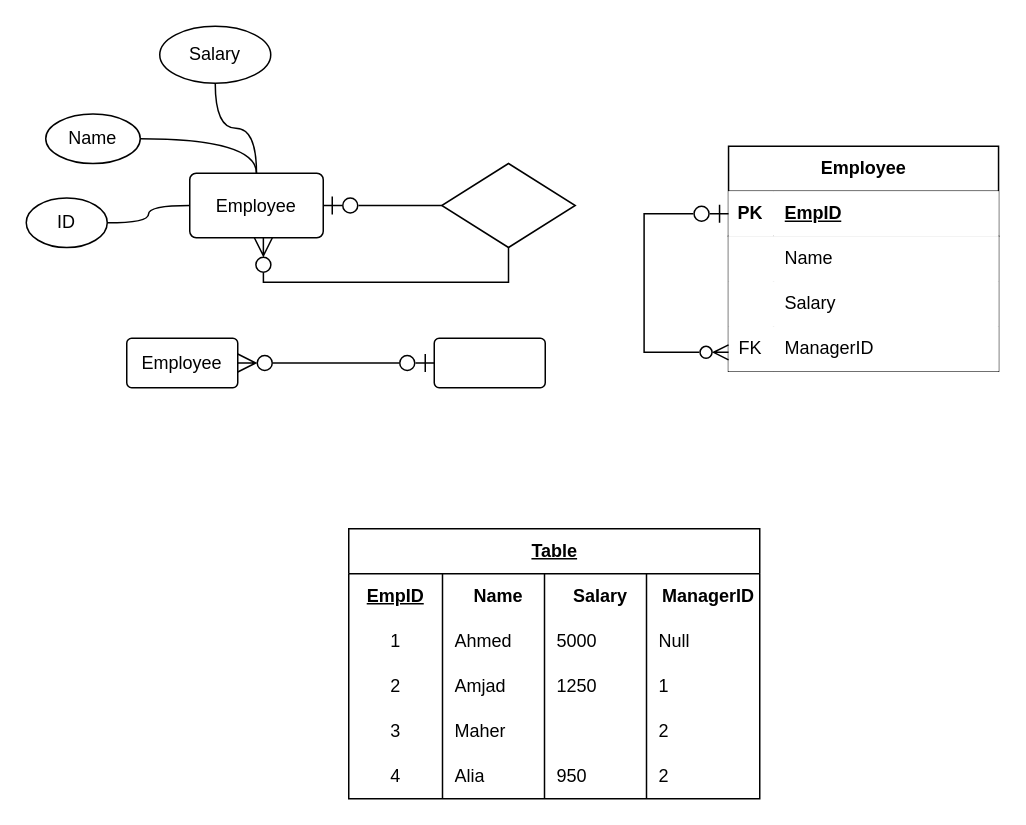
The diagram is 1026 pixels wide and 825 high, and some of its shapes have lost their labels. The shapes that lost their labels are listed below. From the top down, each one's centre as x and y in pixels, then its label:
At (507,205): "Manages".
At (489,362): "manager".
